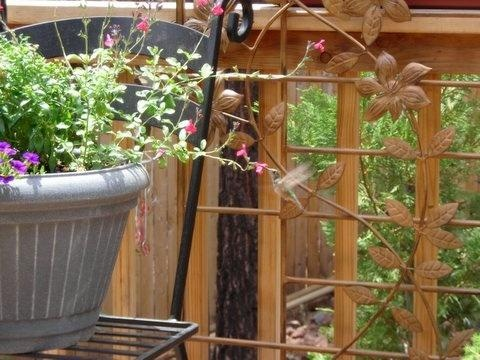bird: (265, 163, 316, 214)
chair: (2, 2, 254, 360)
pottedplant: (2, 2, 265, 355)
